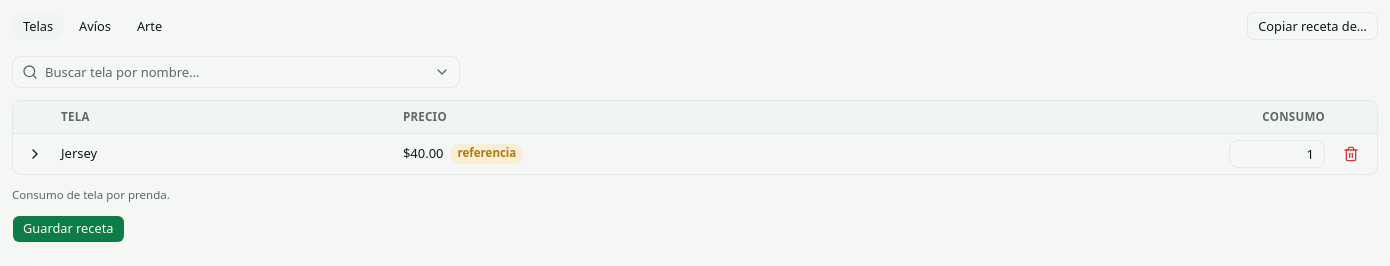
<EditorBom> — secciones de la receta › ⭐ SIN amarre el avío muestra el MÁS BARATO con su proveedor, marcado "sin amarrar" (H2b)
Step 1. Click the tab with test id "tab-bom-avios" → x=95, y=26, box left=68, top=12, right=122, bottom=40
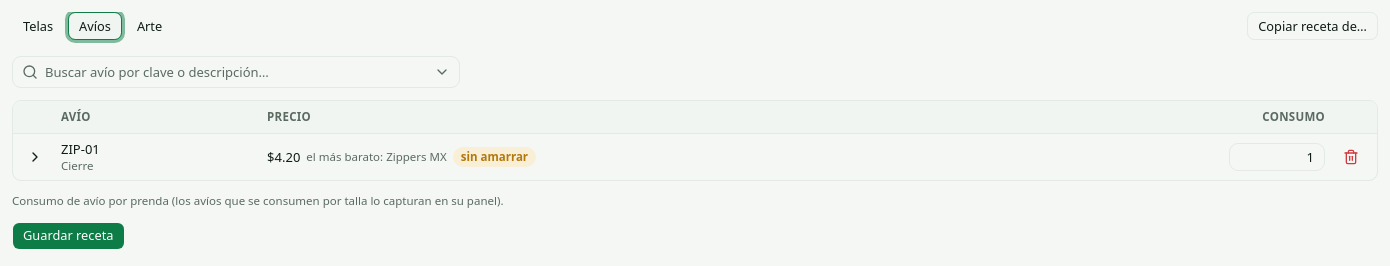
Expected: the text "$4.20" is shown, left=267, top=148, right=300, bottom=166
Expected: the text "el más barato: Zippers MX" is shown, left=306, top=149, right=447, bottom=165
Expected: the text "sin amarrar" is shown, left=453, top=147, right=536, bottom=167
